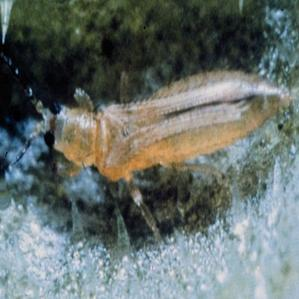melon thrips: (7, 37, 290, 253)
